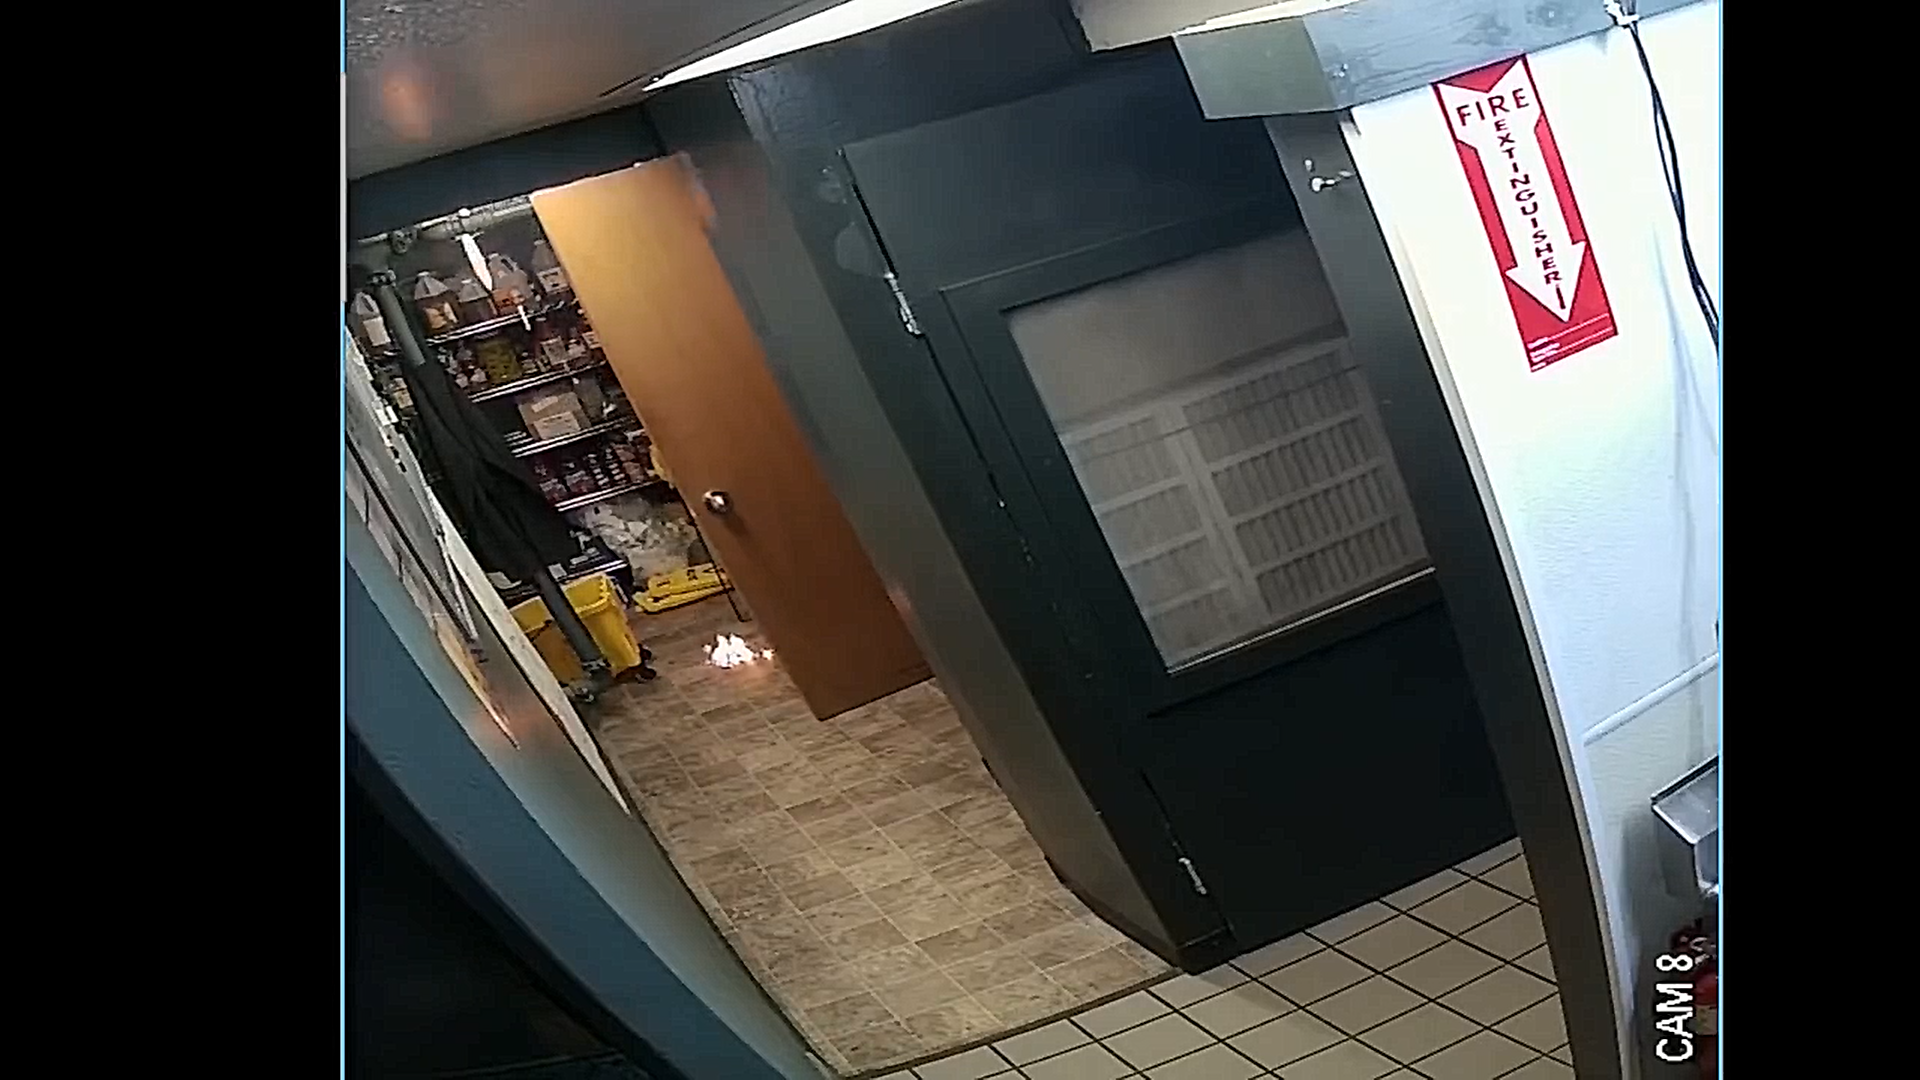fire: (688, 624, 785, 676)
